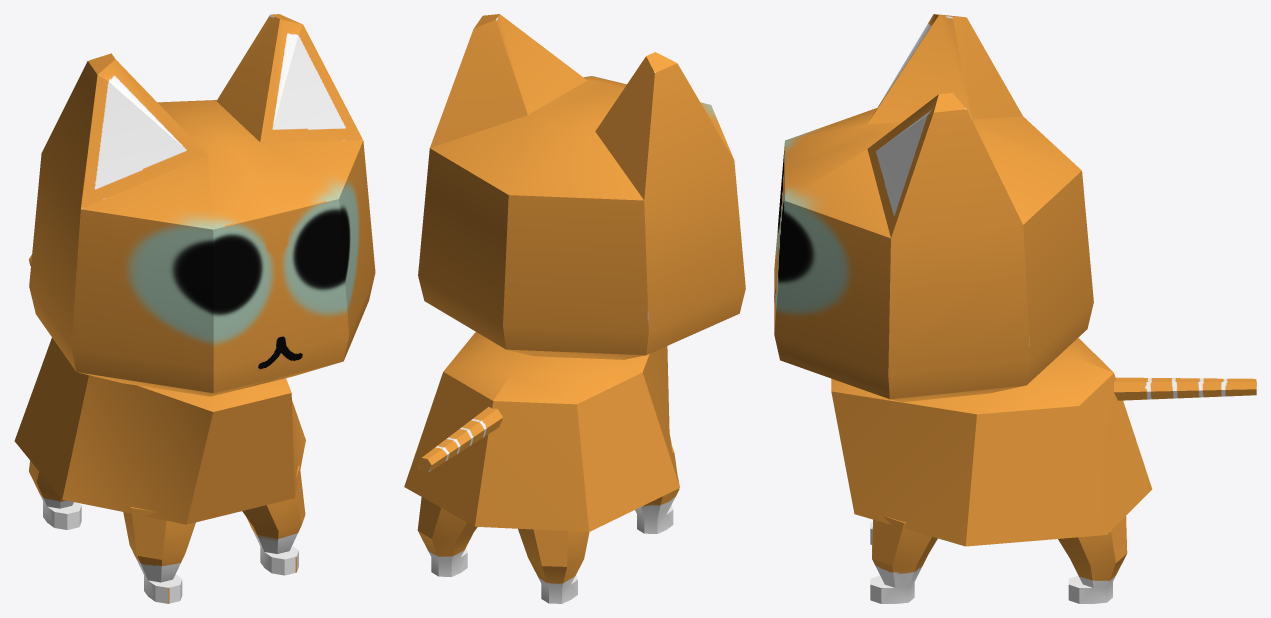
File: evie.fbx
The picture shows the model from 3 angles, left to right: view 1: azimuth 30°, elevation 25°; view 2: azimuth 150°, elevation 25°; view 3: azimuth 270°, elevation 25°; orthographic projection. The views are drawn at different scales.
Parts seen in each view (by area): view 1: Evie; view 2: Evie; view 3: Evie.
Part boxes in pixels (<box>): Evie: <box>14,14,375,603</box>; Evie: <box>404,14,745,603</box>; Evie: <box>774,14,1256,603</box>.
Size of the model in its own units: 24.64 by 40.55 by 34.44.
Materials: 1 (1 with a texture image).
